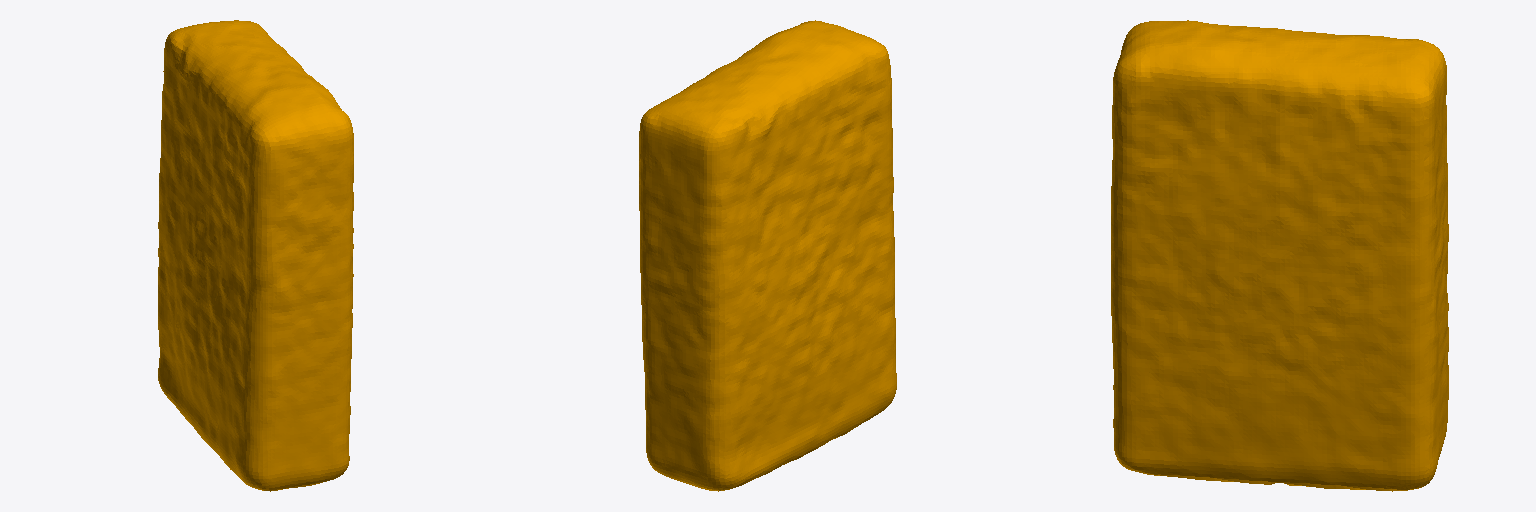
URDF robot description (cracker_box):
<?xml version="1.0"?>
<robot name="cracker_box">
  <link name="craxker_box">
    <visual>
      <origin xyz="0.0 0.0 0.0"/>
      <geometry>
        <mesh filename="ycb/003_cracker_box/filtered_textured.obj" scale="1.0 1.0 1.0"/>
      </geometry>
    </visual>
    <collision>
      <origin xyz="0.0 0.0 0.0"/>
      <geometry>
        <mesh filename="ycb/003_cracker_box/filtered_collision.obj" scale="1.0 1.0 1.0"/>
      </geometry>
    </collision>
    <inertial>
      <mass value="0.411"/>
      <inertia ixx="0.00015" ixy="-0.00001" ixz="0.0" iyy="0.00011" iyz="-0.00001" izz="0.00006"/>
    </inertial>
  </link>
</robot>

--- Render facts (derived) ---
3 views of the same robot in one strip: view 1: azimuth 30°, elevation 25°; view 2: azimuth 150°, elevation 25°; view 3: azimuth 270°, elevation 25° (orthographic).
Robot: cracker_box — 1 links, 0 joints (none); root link craxker_box; default pose: all joints at 0.
Visible links, largest first — view 1: craxker_box; view 2: craxker_box; view 3: craxker_box.
Link boxes in pixels (x1,y1,x2,y2): craxker_box: (158, 20, 353, 491); craxker_box: (639, 20, 896, 491); craxker_box: (1111, 20, 1448, 491).
Size in the robot's own frame: 0.09 by 0.1678 by 0.2384 metres.
Meshes: 1 distinct files referenced, 1 mesh visuals loaded (1 OBJ).
